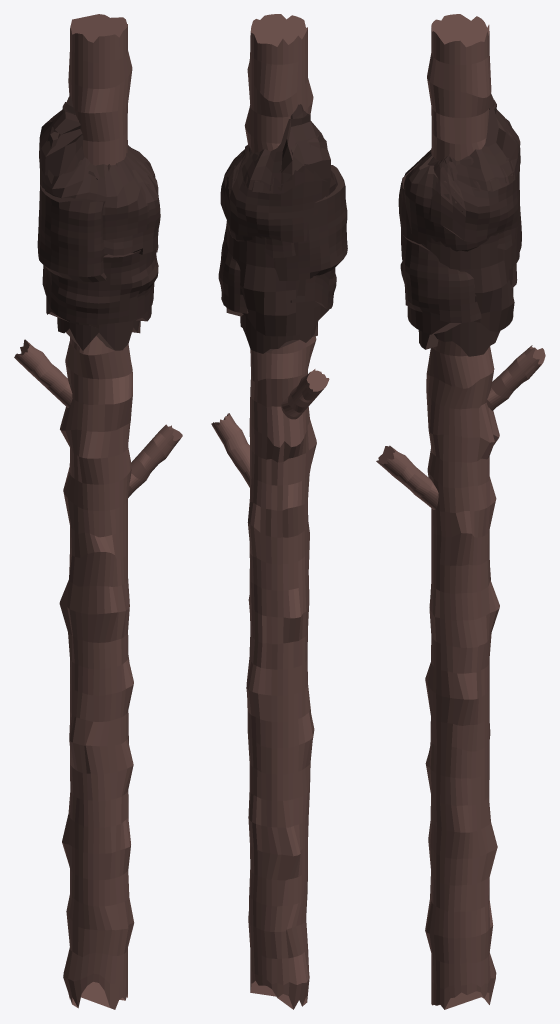
The model's file is Torch2.fbx.
3 views of the same model, side by side, from view 1: azimuth 90°, elevation 25°; view 2: azimuth 210°, elevation 25°; view 3: azimuth 270°, elevation 25° (orthographic).
Parts seen in each view (by area): view 1: Torch2; view 2: Torch2; view 3: Torch2.
Part boxes in pixels (box(x1,y1,x2,y2)): Torch2: box(14, 14, 182, 1009); Torch2: box(211, 14, 347, 1009); Torch2: box(376, 14, 545, 1009).
Size of the model in its own units: 443 by 3700 by 580.
